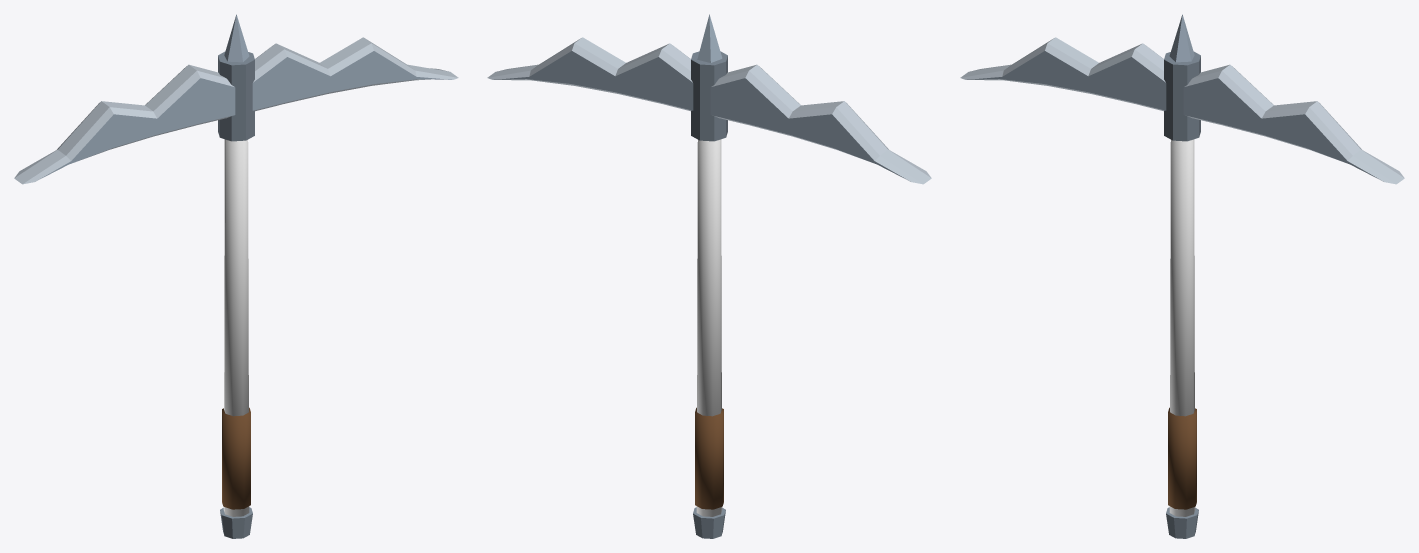
The model's file is titanium_pickaxe.glb.
3 views of the same model, side by side, from view 1: azimuth 30°, elevation 25°; view 2: azimuth 150°, elevation 25°; view 3: azimuth 330°, elevation 25° (orthographic).
Parts seen in each view (by area): view 1: titanium_pickaxe_v0; view 2: titanium_pickaxe_v0; view 3: titanium_pickaxe_v0.
Part boxes in pixels (left/top/right/bottom): titanium_pickaxe_v0: left=14, top=14, right=458, bottom=538; titanium_pickaxe_v0: left=487, top=14, right=931, bottom=538; titanium_pickaxe_v0: left=960, top=14, right=1404, bottom=538.
Bounding box in the file's own units: 0.84 × 0.955 × 0.064.
